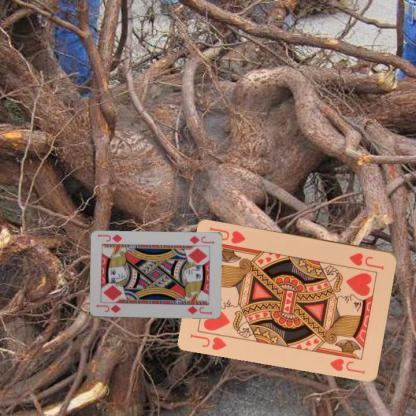Jd: (94, 302, 122, 314), (186, 234, 216, 245)
Jh: (188, 330, 228, 352), (346, 250, 386, 271)
